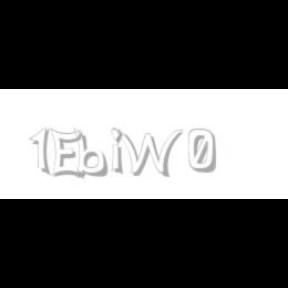0: (189, 128, 220, 174)
1: (29, 128, 51, 176)
E: (50, 128, 82, 180)
W: (111, 128, 183, 178)
b: (73, 128, 111, 178)
i: (111, 128, 127, 176)
